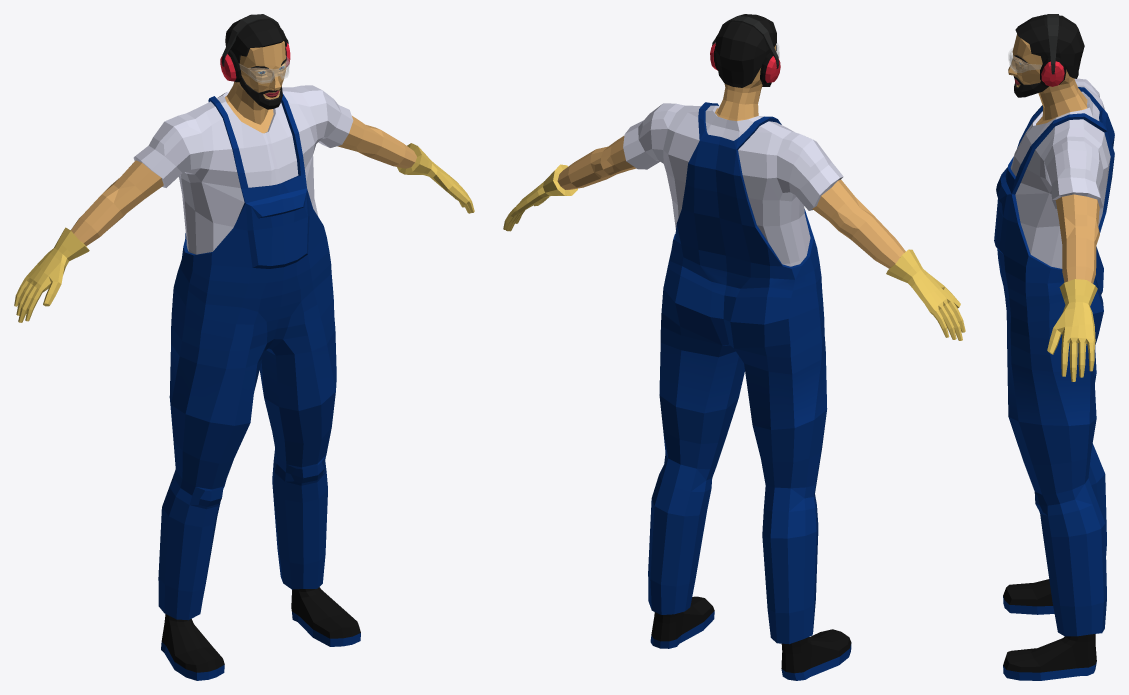
The model's file is SM_M_factory worker_M02.fbx.
3 views of the same model, side by side, from view 1: azimuth 30°, elevation 25°; view 2: azimuth 150°, elevation 25°; view 3: azimuth 270°, elevation 25° (orthographic).
Parts seen in each view (by area): view 1: Sphere, Circle; view 2: Sphere, Circle; view 3: Sphere, Circle, Plane.001.
Part boxes in pixels (x1,y1,x2,y2): Sphere: (14, 14, 474, 680); Circle: (220, 14, 290, 82); Sphere: (503, 14, 965, 680); Circle: (710, 16, 780, 83); Sphere: (994, 14, 1114, 680); Circle: (1040, 14, 1066, 86); Plane.001: (1008, 47, 1041, 72).
Bounding box in the file's own units: 129 × 171 × 30.1.
